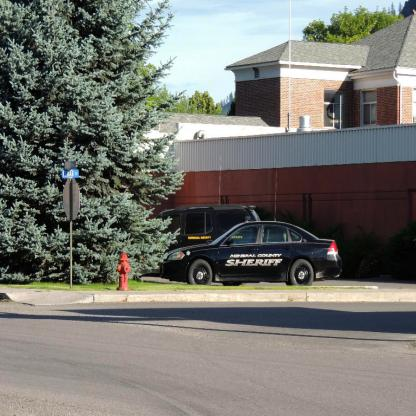Car: (155, 156, 261, 274)
